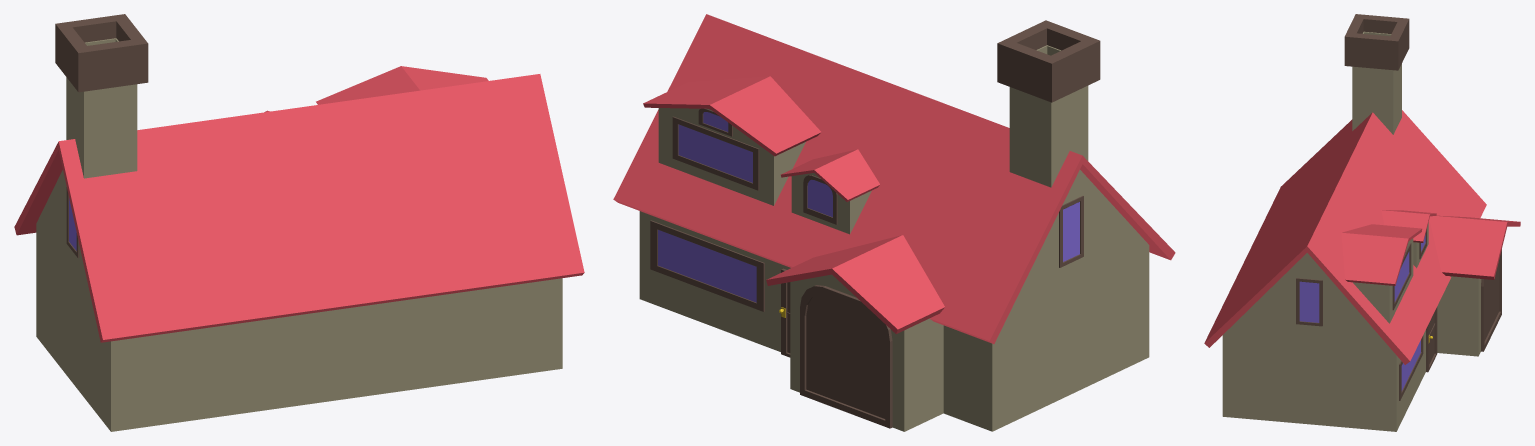
File: CALLE6_CASA1_037.fbx
3 renders of one model, left to right at view 1: azimuth 30°, elevation 25°; view 2: azimuth 150°, elevation 25°; view 3: azimuth 270°, elevation 25°, orthographic. The views are drawn at different scales.
Visible parts, largest first — view 1: CASA1.037; view 2: CASA1.037; view 3: CASA1.037.
Part boxes in pixels (box(x1,y1,x2,y2)): CASA1.037: box(14, 14, 584, 431); CASA1.037: box(613, 14, 1175, 431); CASA1.037: box(1204, 14, 1520, 431).
Bounding box in the file's own units: 1063 × 734 × 814.
